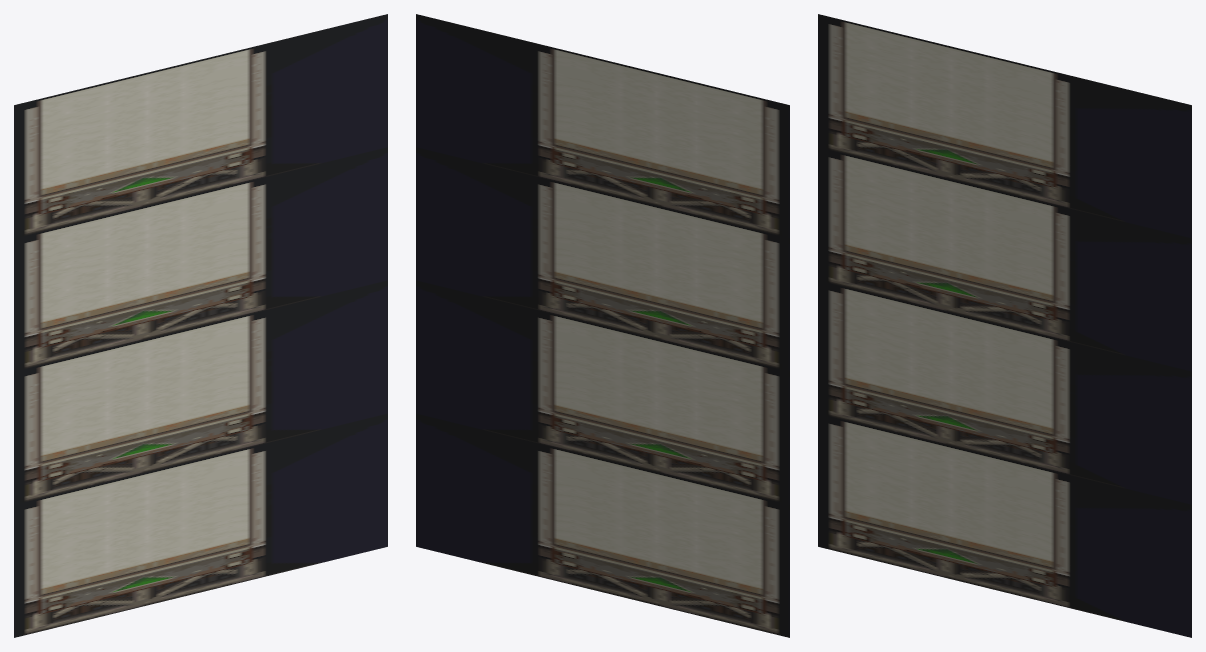
File: OBJ_Editor_StairsCap_RU.glb
3 renders of one model, left to right at view 1: azimuth 30°, elevation 25°; view 2: azimuth 150°, elevation 25°; view 3: azimuth 330°, elevation 25°, orthographic.
Visible parts, largest first — view 1: Renderer, Renderer (1), Renderer (2), Renderer (3); view 2: Renderer, Renderer (1), Renderer (2), Renderer (3); view 3: Renderer, Renderer (1), Renderer (2), Renderer (3).
Part boxes in pixels (left/top/right/bottom): Renderer: left=14, top=413, right=387, bottom=637; Renderer (1): left=14, top=280, right=387, bottom=504; Renderer (2): left=14, top=147, right=387, bottom=371; Renderer (3): left=14, top=14, right=387, bottom=238; Renderer: left=416, top=413, right=789, bottom=637; Renderer (1): left=416, top=280, right=789, bottom=504; Renderer (2): left=416, top=147, right=789, bottom=371; Renderer (3): left=416, top=14, right=789, bottom=238; Renderer: left=818, top=413, right=1191, bottom=637; Renderer (1): left=818, top=280, right=1191, bottom=504; Renderer (2): left=818, top=147, right=1191, bottom=371; Renderer (3): left=818, top=14, right=1191, bottom=238.
Bounding box in the file's own units: 2.94 × 4 × 6.12e-17.
4 materials, 4 textured.
